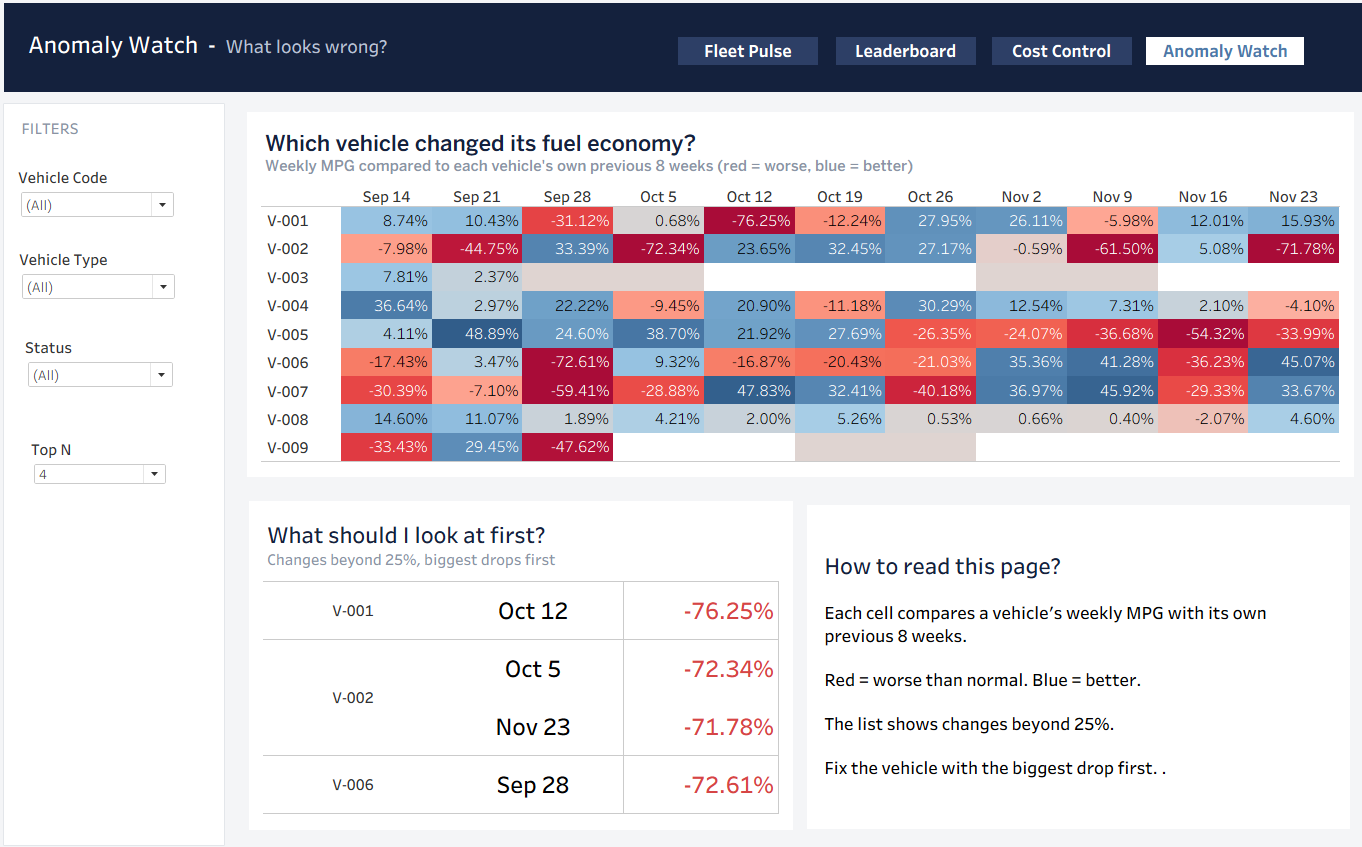

The dashboard page shown, as its layout file describes it:
{"tool":"tableau","page":{"name":"Anomaly Watch","canvas":[1400,900],"ordinal":0},"visuals":[{"type":"text","box":[40,37,578,32]},{"type":"dashboard-object","box":[693,46,140,28]},{"type":"dashboard-object","box":[851,46,140,28]},{"type":"dashboard-object","box":[1007,46,140,28]},{"type":"dashboard-object","box":[1161,46,158,28]},{"type":"text","box":[29,123,200,29]},{"type":"worksheet","title":"MPG Heatmap","mark":"Square","rows":["vehicle_code"],"cols":["Calculation_0860095119265802"],"box":[272,131,1087,345]},{"type":"filter","title":"MPG Alerts","param":"[federated.0ieta591od6l6310zs0tm09nx7go].[none:vehicle_code:nk]","box":[23,166,179,80]},{"type":"filter","title":"MPG Alerts","param":"[federated.0ieta591od6l6310zs0tm09nx7go].[none:vehicle_type:nk]","box":[34,258,159,64]},{"type":"filter","title":"MPG Alerts","param":"[federated.0ieta591od6l6310zs0tm09nx7go].[none:status:nk]","box":[20,326,191,93]},{"type":"worksheet","title":"MPG Alerts","mark":"Text","rows":["vehicle_code","Calculation_0860095119265802"],"box":[274,520,524,307]},{"type":"text","box":[832,524,523,304]}]}

Visuals, with their boxes on the page's 1400x900 design canvas (x1, y1, x2, y2). These are canvas units, not pixel positions in the 1362x847 screenshot, which may show the page scaled, cropped or inside an application window:
text: BBox(40, 37, 618, 69)
dashboard-object: BBox(693, 46, 833, 74)
dashboard-object: BBox(851, 46, 991, 74)
dashboard-object: BBox(1007, 46, 1147, 74)
dashboard-object: BBox(1161, 46, 1319, 74)
text: BBox(29, 123, 229, 152)
"MPG Heatmap" worksheet (Square marks): BBox(272, 131, 1359, 476)
"MPG Alerts" filter: BBox(23, 166, 202, 246)
"MPG Alerts" filter: BBox(34, 258, 193, 322)
"MPG Alerts" filter: BBox(20, 326, 211, 419)
"MPG Alerts" worksheet (Text marks): BBox(274, 520, 798, 827)
text: BBox(832, 524, 1355, 828)
